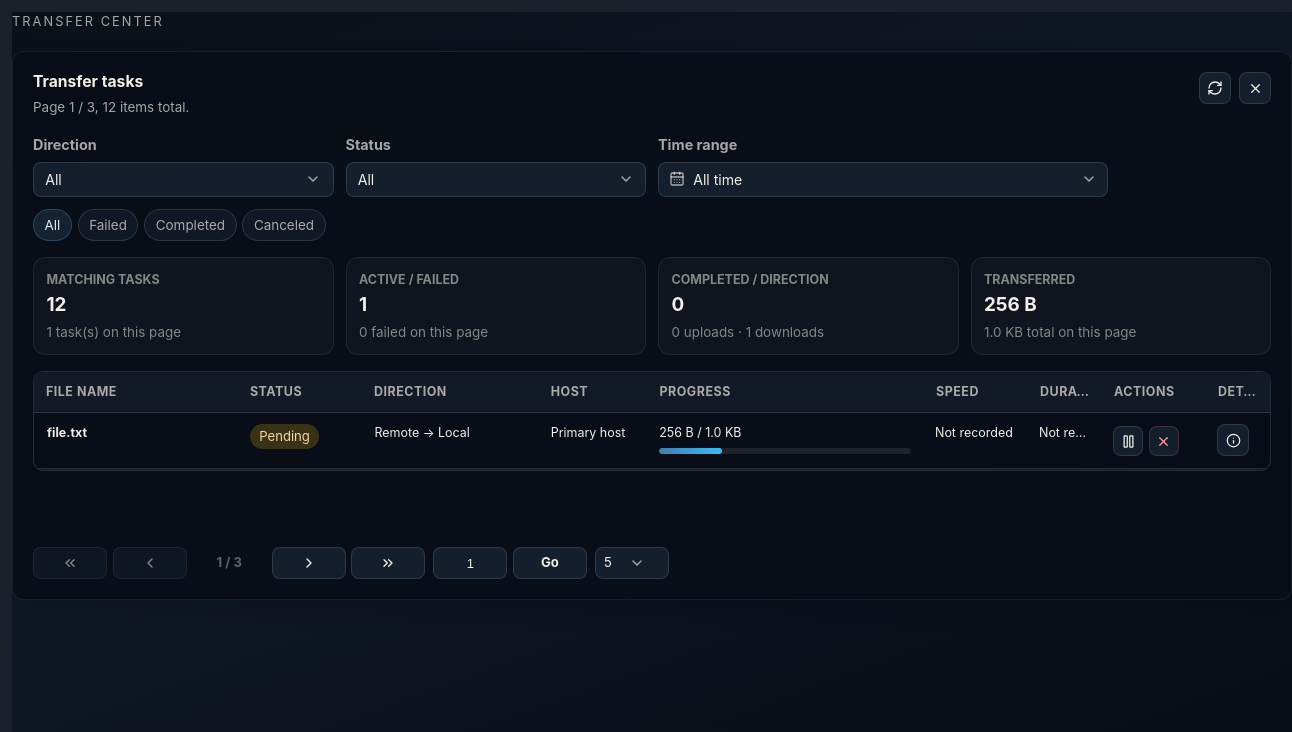
Scenario: TransfersPage › resets to the first page and refetches when the task type filter changes
This screenshot has width=1292, height=732.
Click the button named "Next" at (309, 563), box [272, 547, 346, 579]
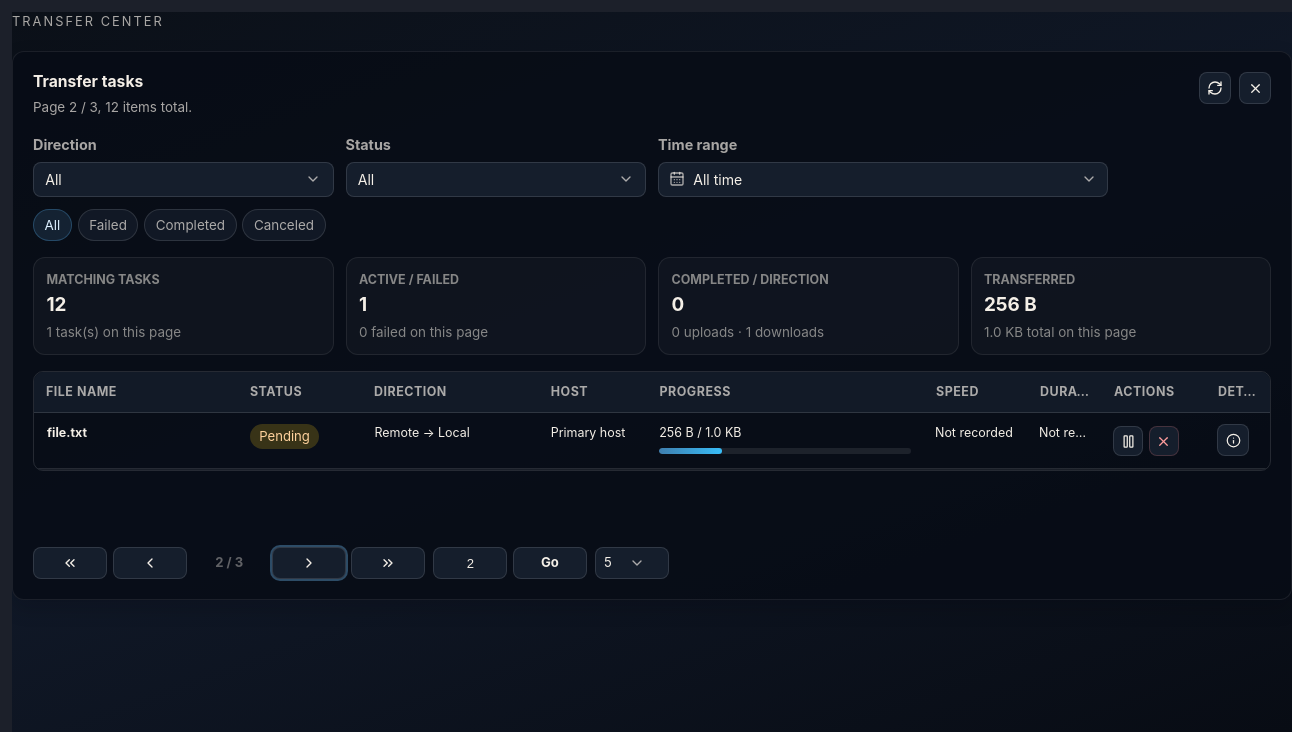
Click the dropdown named "Direction" at (53, 179), box [33, 162, 334, 197]
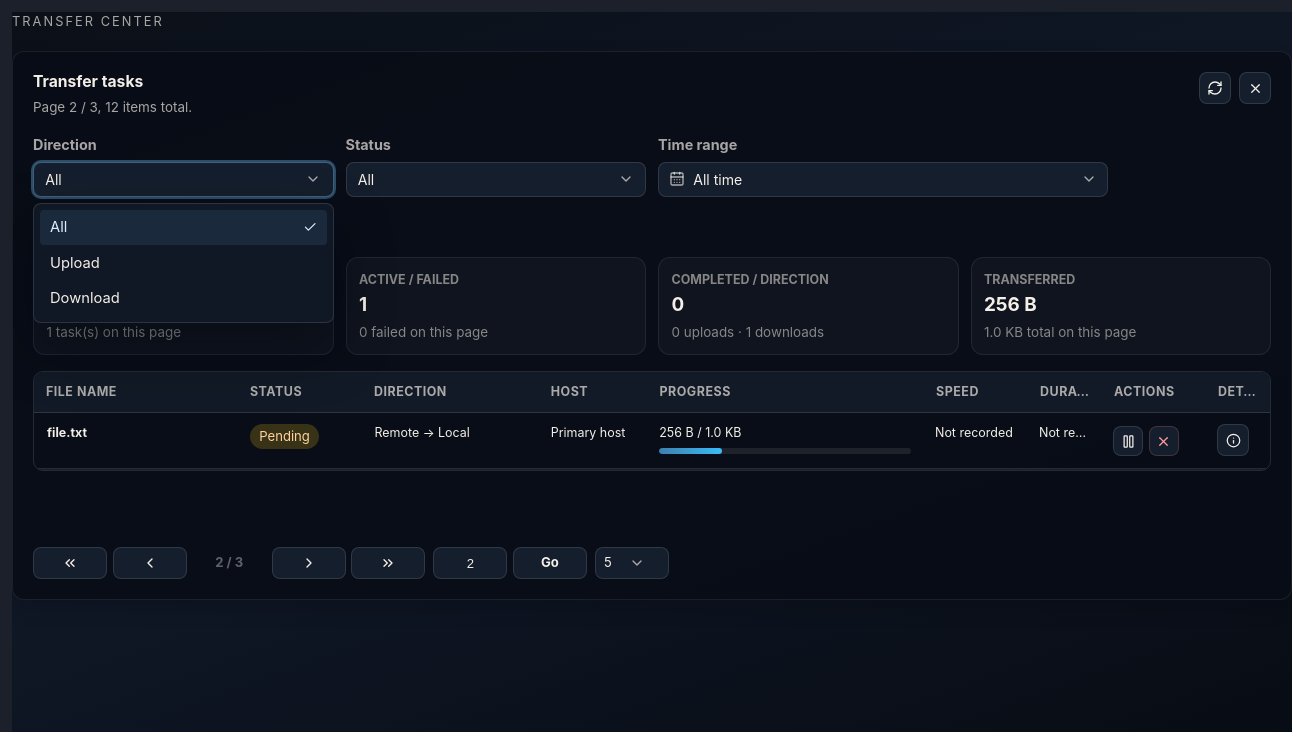
Click the option "Upload" at (75, 263), box [50, 254, 100, 272]
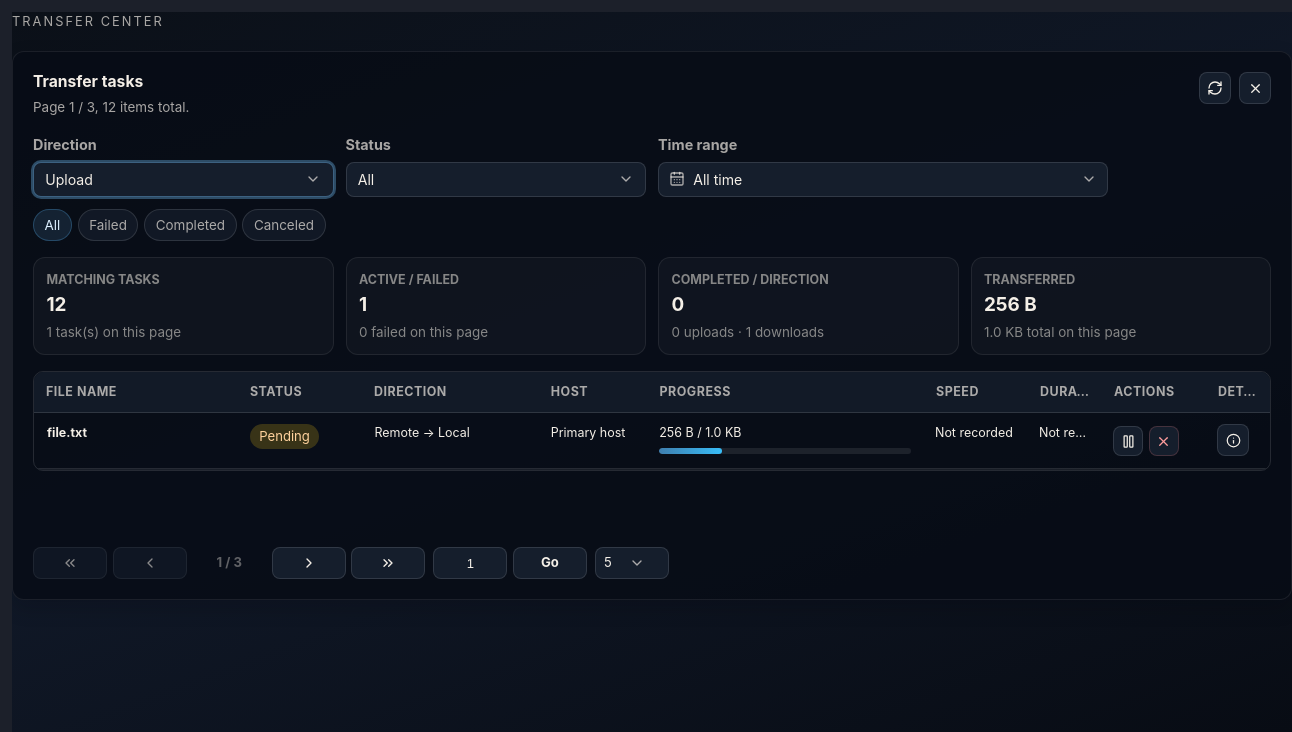
Check: the text "Page 1 / 3, 12 items total." is shown, box [33, 97, 189, 118]
